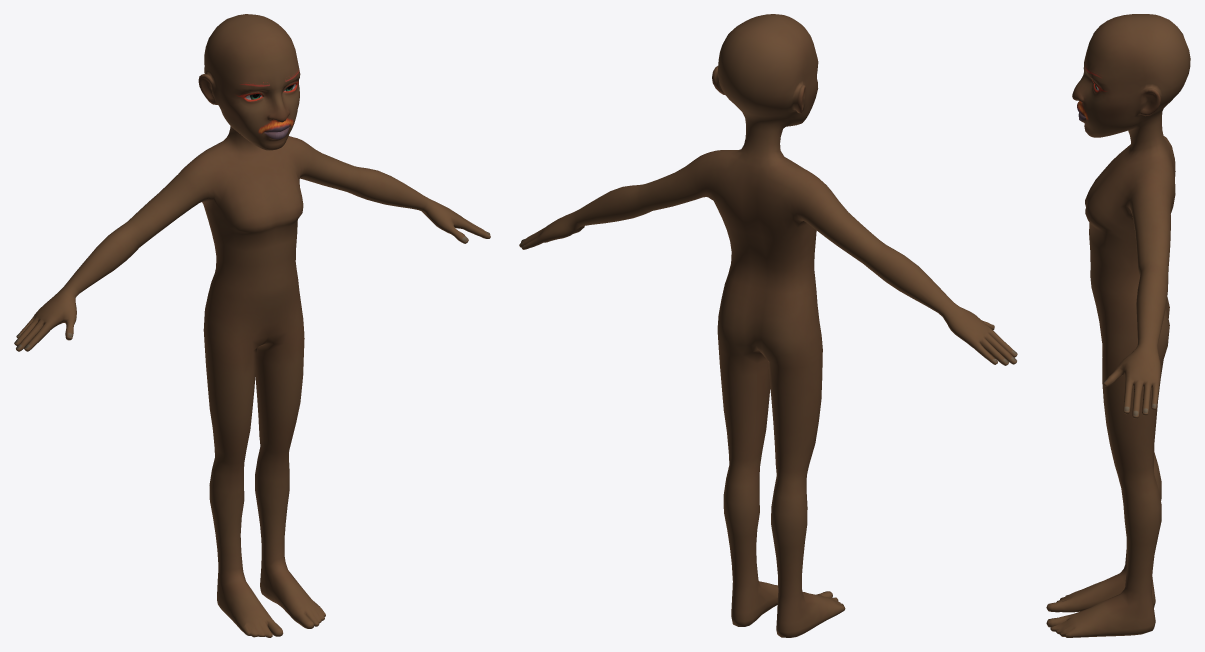
Rendered from frame_0098.glb.
The picture shows the model from 3 angles, left to right: view 1: azimuth 30°, elevation 25°; view 2: azimuth 150°, elevation 25°; view 3: azimuth 270°, elevation 25°; orthographic projection. The views are drawn at different scales.
Visible parts, largest first — view 1: frame_0098_head_geo; view 2: frame_0098_head_geo; view 3: frame_0098_head_geo.
Boxes of the visible parts, box(x1,y1,x2,y2) form: frame_0098_head_geo: box(14, 14, 490, 637); frame_0098_head_geo: box(519, 14, 1017, 637); frame_0098_head_geo: box(1046, 14, 1190, 637).
Bounding box in the file's own units: 1.28 × 1.5 × 0.3253.
3 materials, 3 textured.
